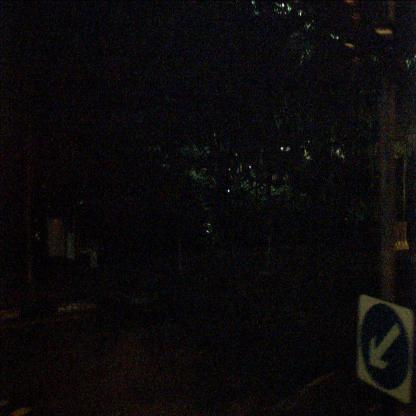movable_object-barrier: (384, 219, 410, 250), (390, 219, 408, 241)
